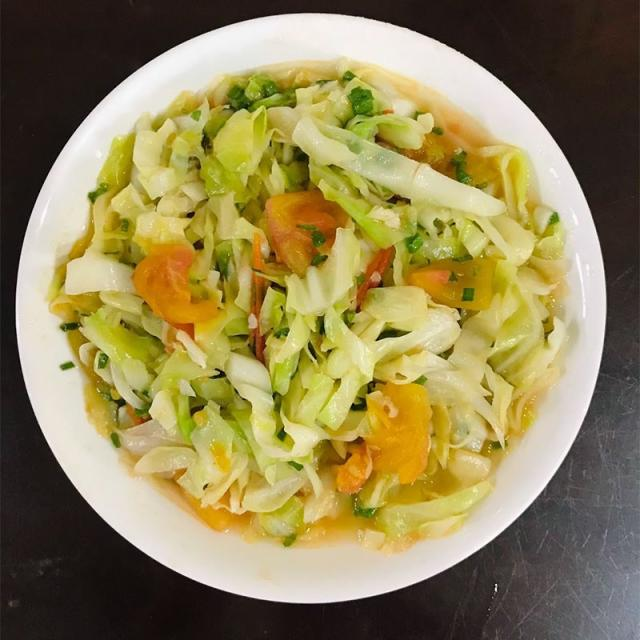bap cai xao: (47, 64, 566, 550)
